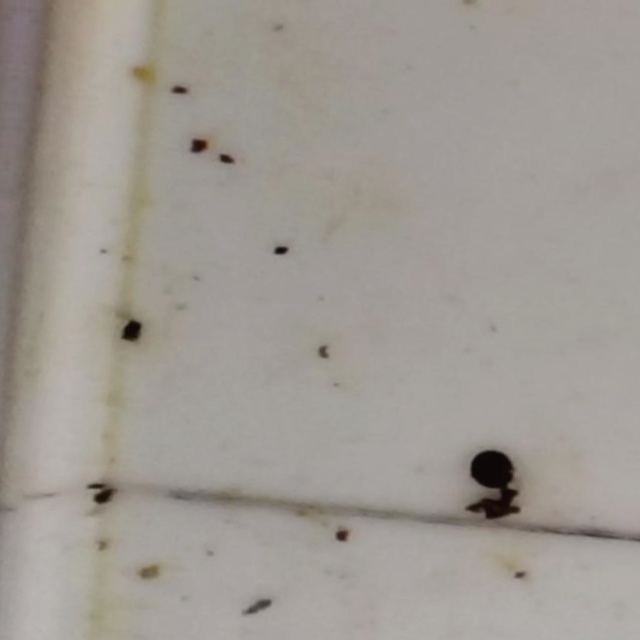varroa: (467, 444, 520, 494)
